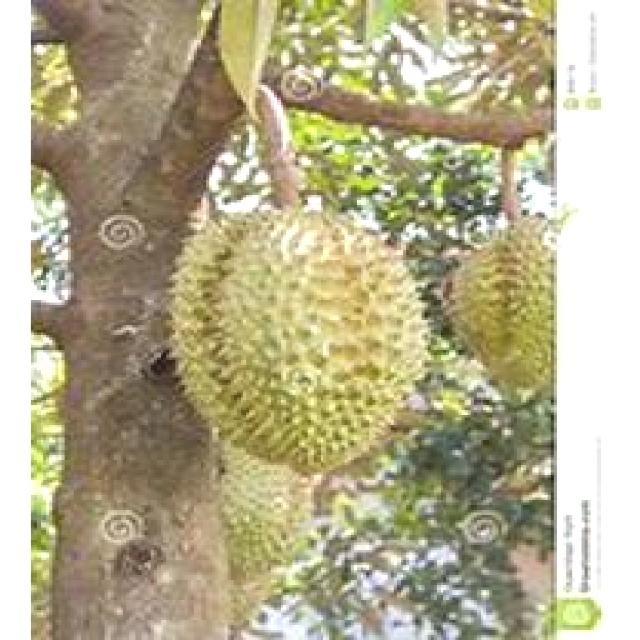agrume: (151, 188, 449, 483)
